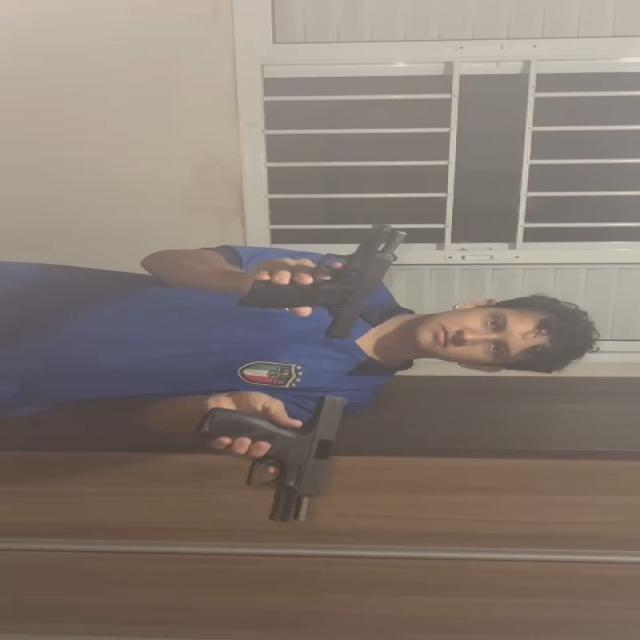gun: (233, 222, 407, 335), (208, 391, 352, 521)
